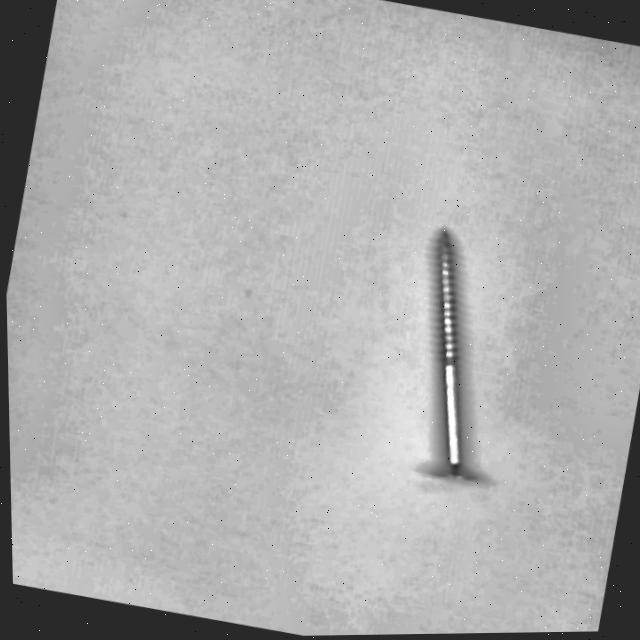Wood screw: (385, 228, 536, 494)
